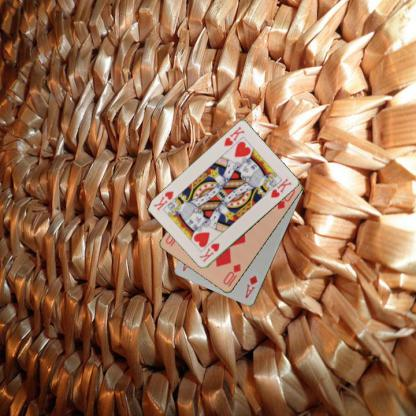10d: (220, 261, 242, 288)
Ad: (243, 273, 259, 300)
Kh: (221, 124, 246, 148), (196, 240, 221, 263)
